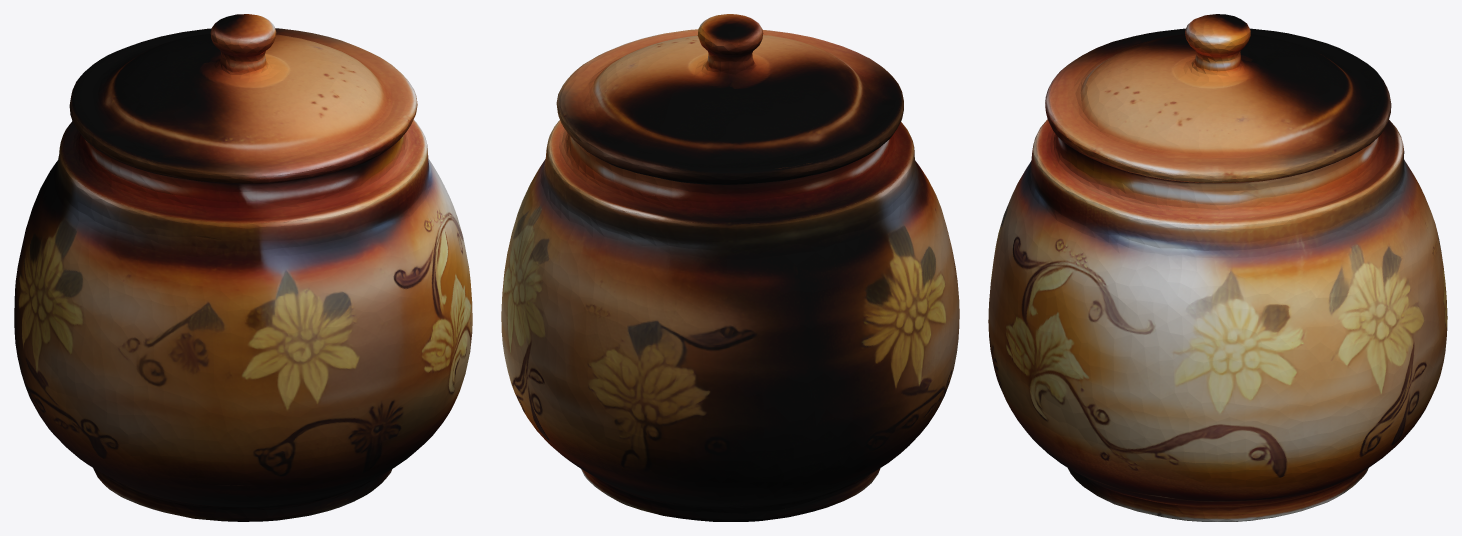
The model's file is ceramic-coffee-canister-rustic.jpeg.glb.
The picture shows the model from 3 angles, left to right: view 1: azimuth 30°, elevation 25°; view 2: azimuth 150°, elevation 25°; view 3: azimuth 270°, elevation 25°; orthographic projection.
Parts seen in each view (by area): view 1: world; view 2: world; view 3: world.
Part boxes in pixels (x1,y1,x2,y2): world: (14,14,472,521); world: (501,14,959,521); world: (988,14,1447,521).
Bounding box in the file's own units: 0.9492 × 1 × 0.95.
1 material, 1 textured.
